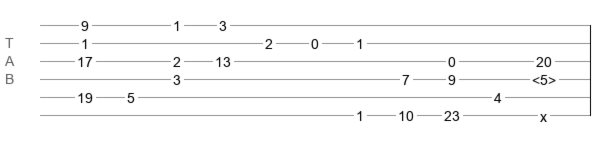0: (311, 36, 319, 46), (448, 54, 456, 64)
1: (81, 36, 89, 46), (173, 18, 181, 28), (356, 108, 364, 118), (356, 36, 364, 46)
10: (398, 108, 414, 118)
13: (215, 54, 231, 64)
17: (77, 54, 93, 64)
19: (77, 90, 93, 100)
2: (173, 54, 181, 64), (265, 36, 273, 46)
20: (536, 54, 552, 64)
23: (444, 108, 460, 118)
3: (173, 72, 181, 82), (219, 18, 227, 28)
4: (494, 90, 502, 100)
5: (127, 90, 135, 100)
7: (402, 72, 410, 82)
9: (81, 18, 89, 28), (448, 72, 456, 82)
harmonic: (532, 72, 556, 82)
x: (540, 109, 547, 117)
